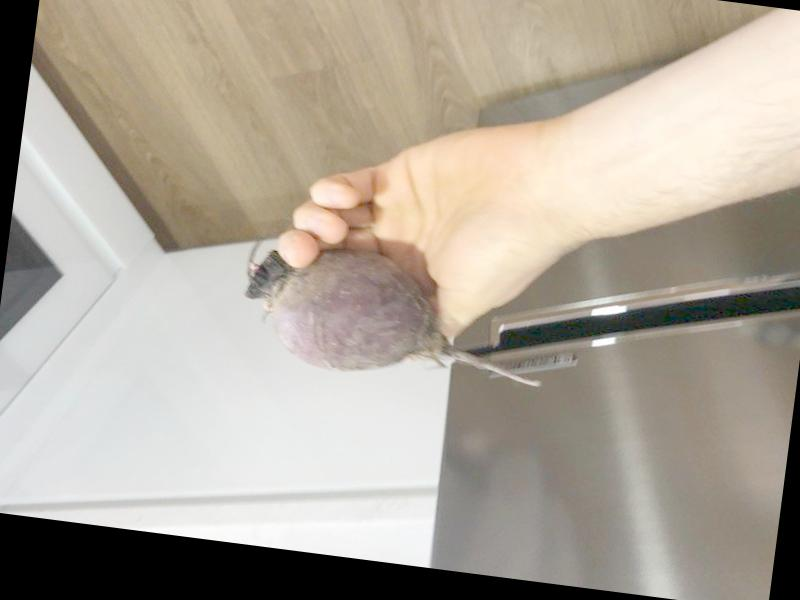Beet: (233, 237, 552, 396)
